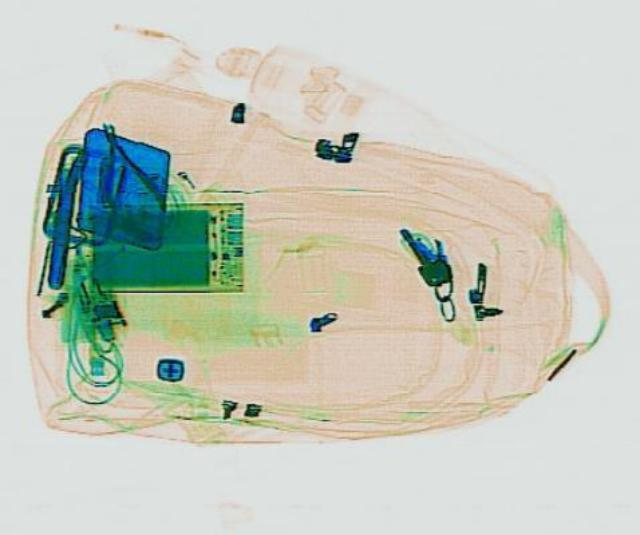Pliers: (74, 113, 168, 222)
